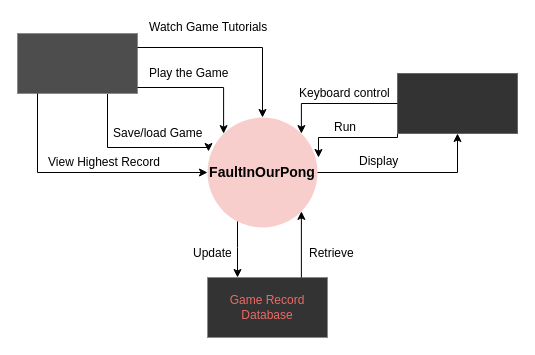
The diagram is 535 pixels wide and 355 high, and some of its shapes have lost their labels. The centre of each missing label's shape, as x and y in pixels:
Computer with Java Installed: the point at 457,103
Player: the point at 77,63
